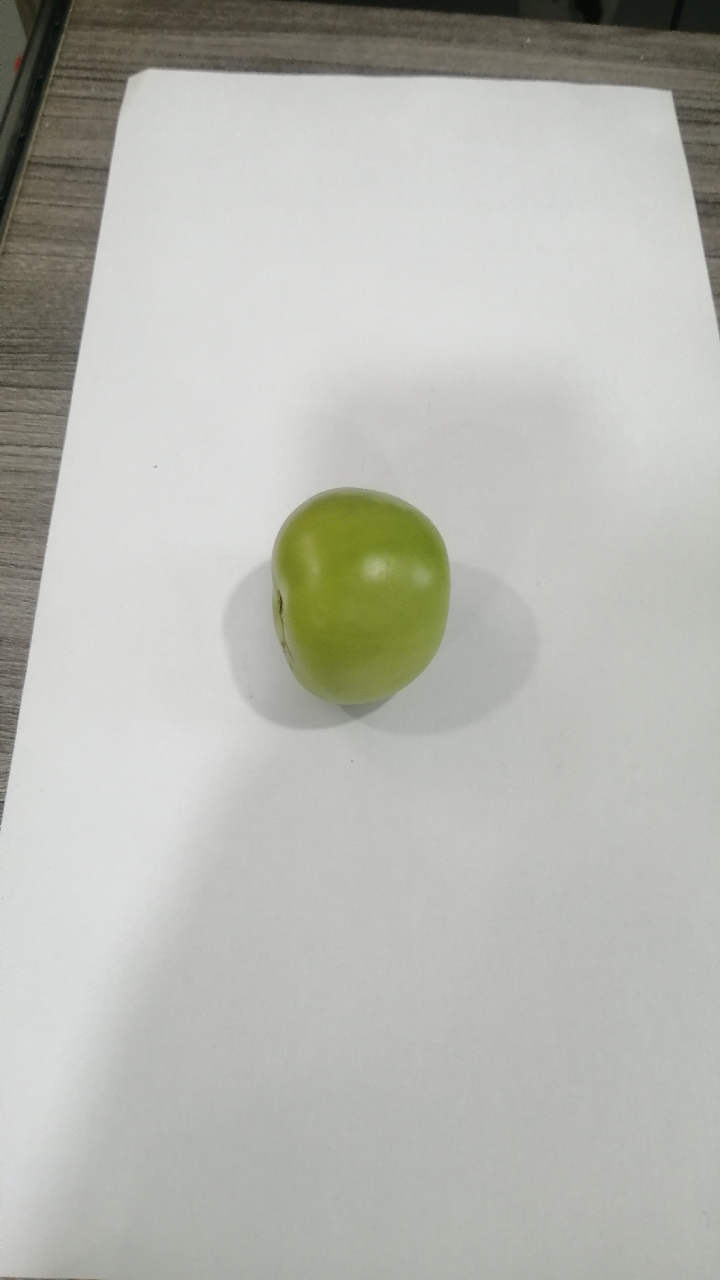tomateVerde: (252, 460, 464, 732)
